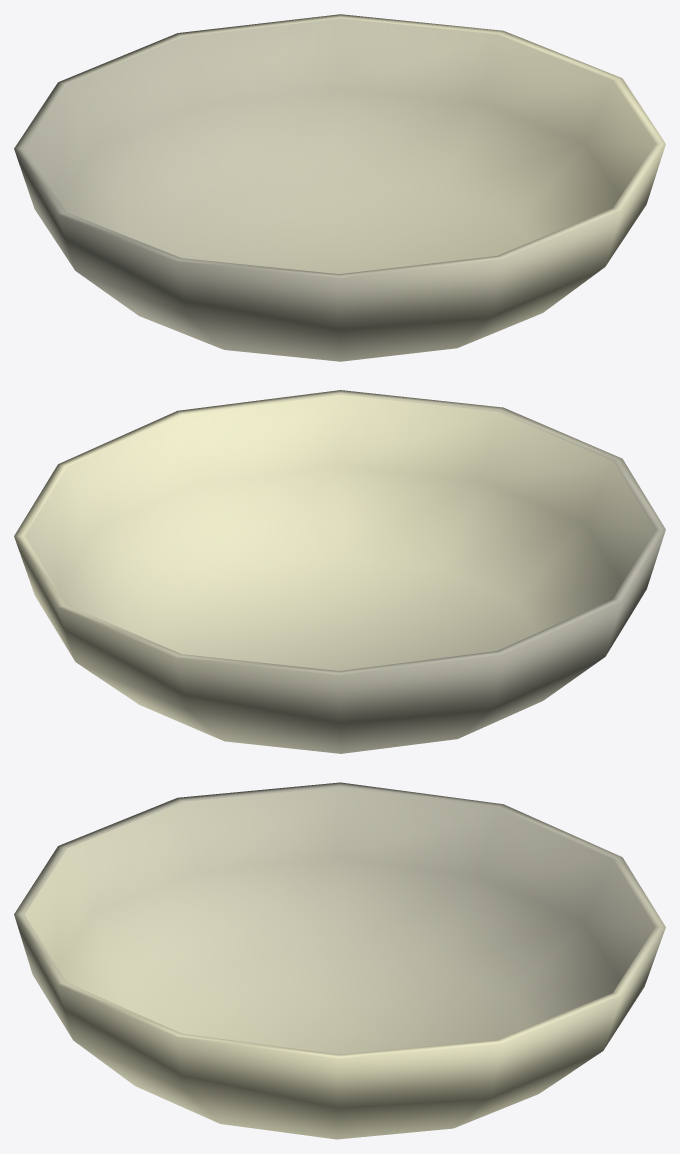
Rendered from object_dishes_plate01.fbx.
The picture shows the model from 3 angles, top to bottom: view 1: azimuth 30°, elevation 25°; view 2: azimuth 150°, elevation 25°; view 3: azimuth 270°, elevation 25°; orthographic projection.
Parts seen in each view (by area): view 1: object_dishes_plate01; view 2: object_dishes_plate01; view 3: object_dishes_plate01.
Part boxes in pixels (x1,y1,x2,y2): object_dishes_plate01: [14, 14, 665, 361]; object_dishes_plate01: [14, 390, 665, 753]; object_dishes_plate01: [14, 782, 665, 1139].
Size of the model in its own units: 0.2096 by 0.2096 by 0.0463.
